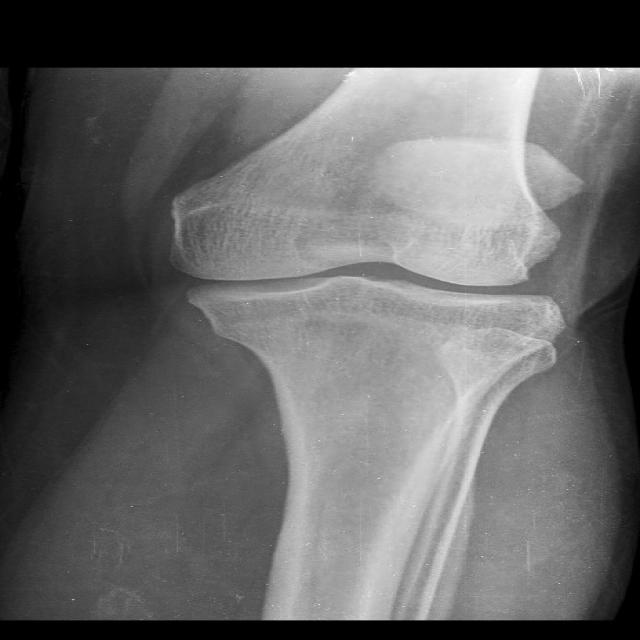osteo: (163, 174, 575, 342)
